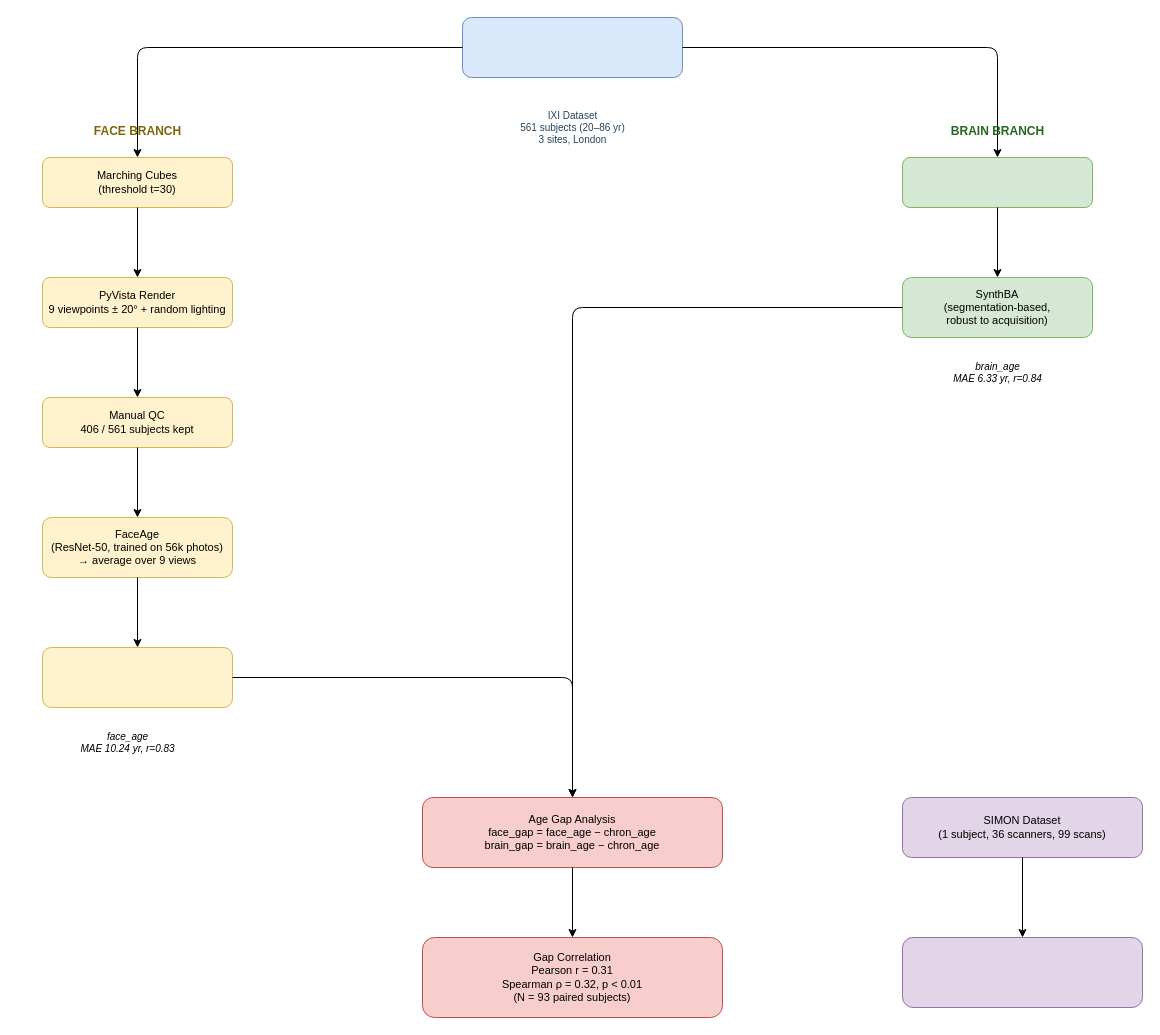
The diagram is 1160 pixels wide and 1035 high, and some of its shapes have lost their labels. The box of each missing label's shape, as (x1, y1, x2, y2) in pixels:
Linear Calibration (fit on 20, apply to 80) true = 1.010·pred − 17.049: (42, 646, 232, 708)
Reproducibility SD pred = 1.21 yr (stable) Bias = −16.2 yr (systematic): (902, 936, 1142, 1008)
SynthStrip (skull stripping): (902, 156, 1092, 208)
T1-weighted MRI (non-defaced NIfTI): (462, 16, 682, 78)
